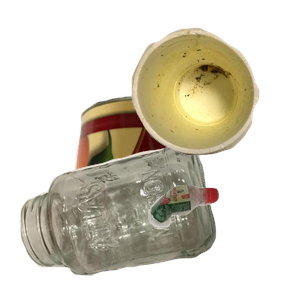glass: (18, 143, 227, 300)
metal: (69, 93, 265, 273)
plastic: (146, 182, 300, 300)
trash: (129, 25, 300, 173)
